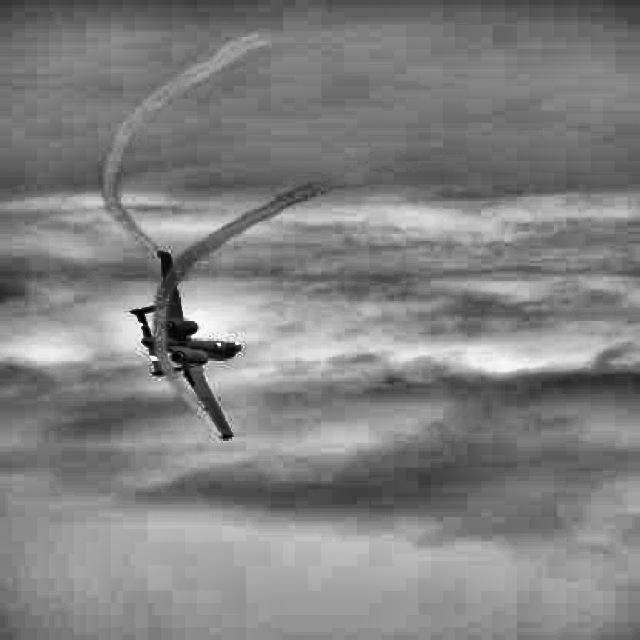A10: (130, 251, 241, 438)
